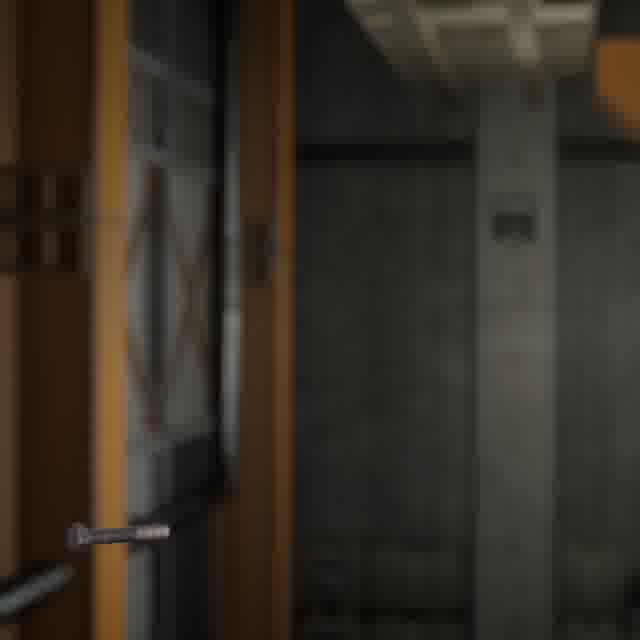bolt: (62, 518, 174, 558)
